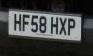5: (30, 14, 39, 33)
8: (39, 16, 47, 34)
F: (22, 13, 30, 33)
H: (12, 12, 22, 32), (50, 16, 59, 36)
P: (67, 17, 76, 36)
X: (59, 16, 67, 36)
